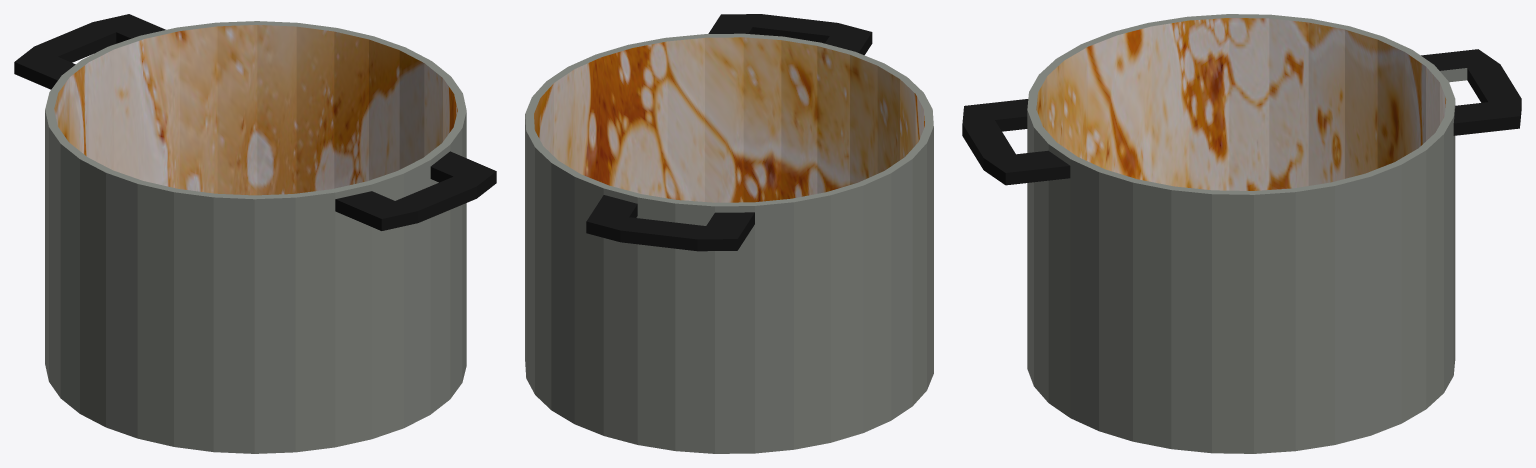
The model's file is olla_3.obj.
3 renders of one model, left to right at view 1: azimuth 30°, elevation 25°; view 2: azimuth 150°, elevation 25°; view 3: azimuth 270°, elevation 25°, orthographic. The views are drawn at different scales.
Visible parts, largest first — view 1: Cilindro.010; view 2: Cilindro.010; view 3: Cilindro.010.
Boxes of the visible parts, x1=… form: Cilindro.010: x1=14, y1=14, x2=496, y2=453; Cilindro.010: x1=525, y1=14, x2=933, y2=453; Cilindro.010: x1=962, y1=14, x2=1521, y2=453.
Bounding box in the file's own units: 0.4492 × 0.3 × 0.5867.
